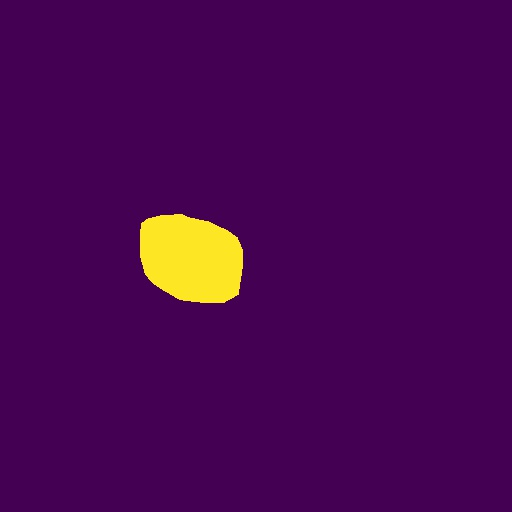Gliomia_tumour: (140, 214, 243, 303)
